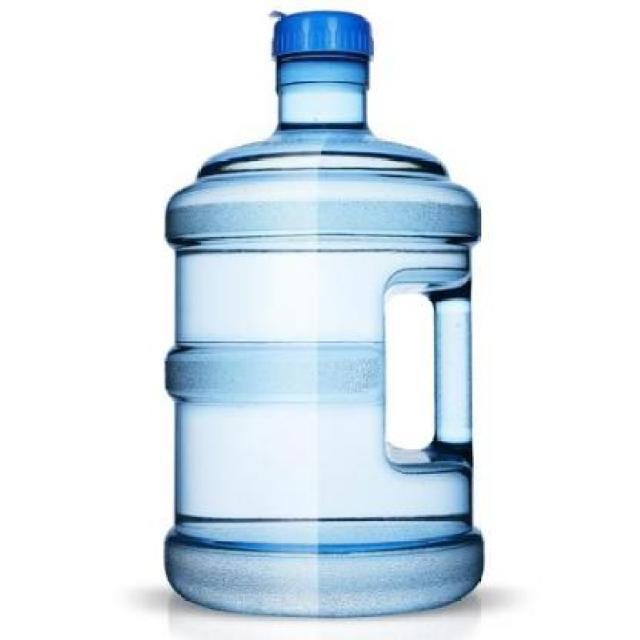coolerbottle: (154, 0, 495, 628)
